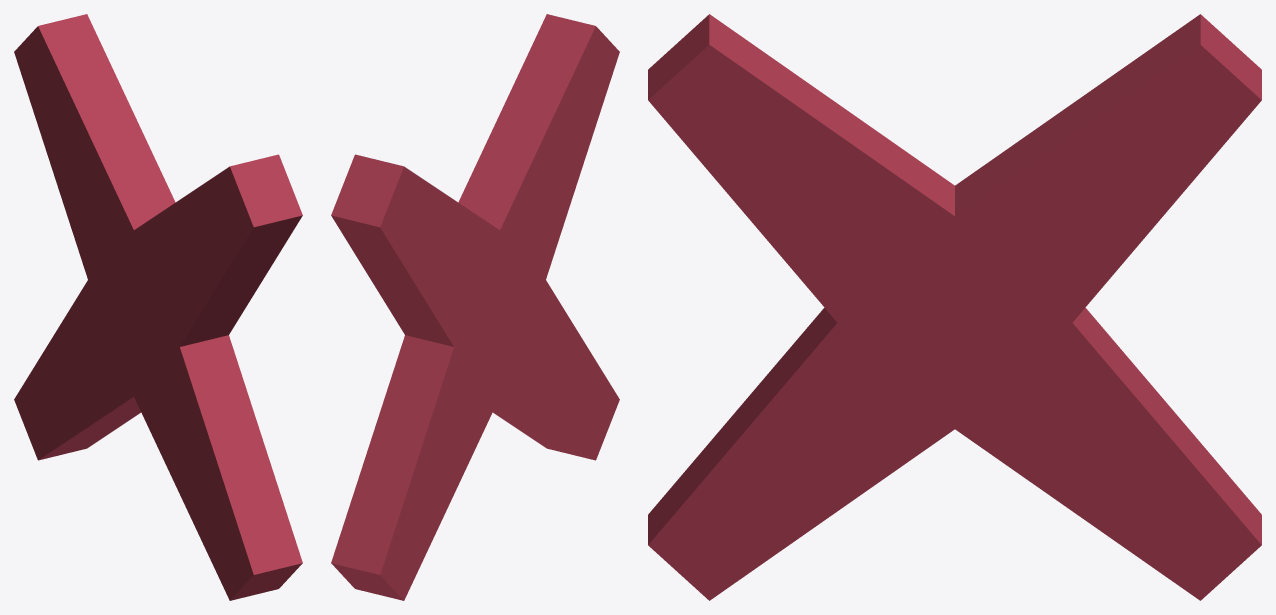
File: Crest.fbx
3 renders of one model, left to right at view 1: azimuth 30°, elevation 25°; view 2: azimuth 150°, elevation 25°; view 3: azimuth 270°, elevation 25°, orthographic. The views are drawn at different scales.
Visible parts, largest first — view 1: Куб; view 2: Куб; view 3: Куб.
Boxes of the visible parts, left/top/right/bottom form: Куб: left=14, top=14, right=302, bottom=600; Куб: left=331, top=14, right=619, bottom=600; Куб: left=648, top=14, right=1261, bottom=600.
Bounding box in the file's own units: 50 × 50 × 5.92.
